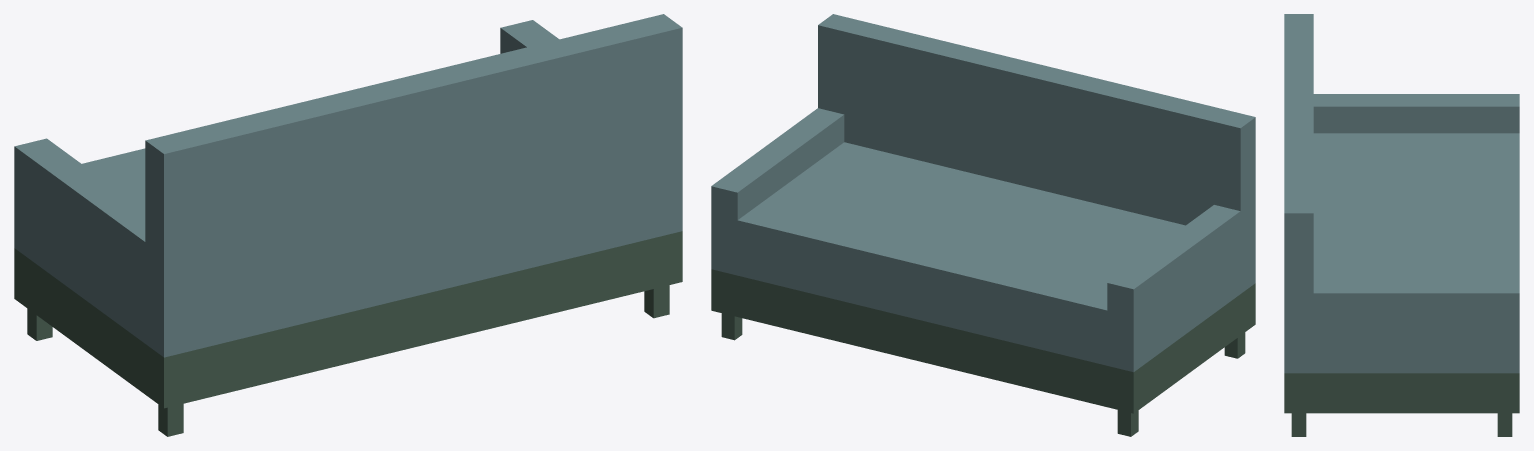
3 renders of one model, left to right at view 1: azimuth 30°, elevation 25°; view 2: azimuth 150°, elevation 25°; view 3: azimuth 270°, elevation 25°, orthographic. The views are drawn at different scales.
Visible parts, largest first — view 1: back, base, arm-0, cushion, arm-1, leg-0-1, leg-1-1; view 2: cushion, back, base, arm-0, arm-1, leg-0-0; view 3: cushion, arm-1, back, base, arm-0, leg-1-0, leg-1-1.
Part boxes in pixels (box(x1,y1,x2,y2)): back: box(145, 14, 682, 357); base: box(14, 231, 682, 408); arm-0: box(14, 138, 148, 345); cushion: box(82, 148, 145, 209); arm-1: box(500, 20, 559, 53); leg-0-1: box(158, 404, 183, 436); leg-1-1: box(644, 285, 669, 318); cushion: box(737, 142, 1185, 365); back: box(818, 14, 1255, 291); base: box(711, 269, 1255, 413); arm-0: box(1107, 205, 1243, 372); arm-1: box(711, 108, 844, 275); leg-0-0: box(1117, 410, 1138, 436); cushion: box(1313, 133, 1519, 280); arm-1: box(1307, 280, 1519, 373); back: box(1284, 14, 1313, 373); base: box(1284, 373, 1519, 413); arm-0: box(1313, 94, 1519, 133); leg-1-0: box(1497, 413, 1512, 436); leg-1-1: box(1291, 413, 1306, 436).
Size of the model in its own units: 1.6 by 0.85 by 0.8.
